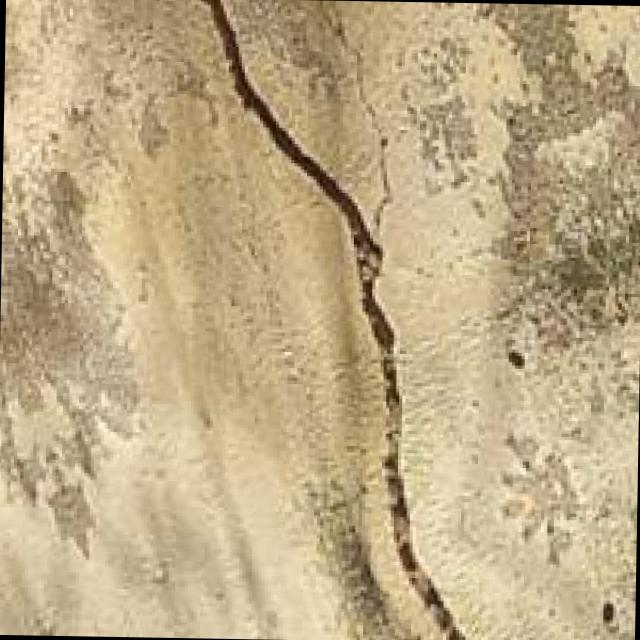crack: (167, 0, 482, 639)
